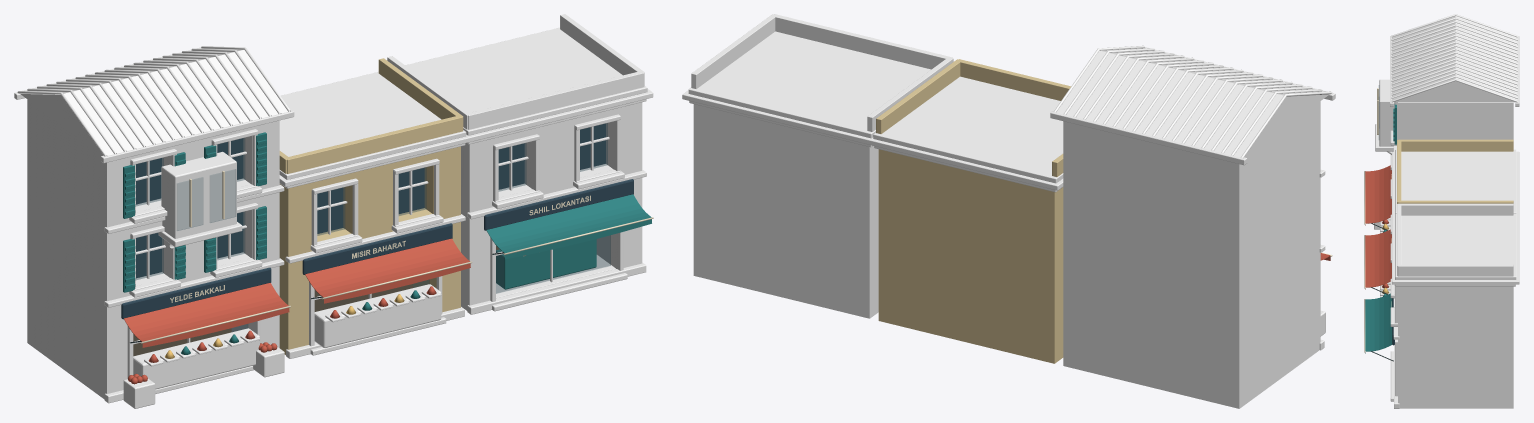
The model's file is DistrictBlock_1_1.glb.
3 views of the same model, side by side, from view 1: azimuth 30°, elevation 25°; view 2: azimuth 150°, elevation 25°; view 3: azimuth 270°, elevation 25° (orthographic). The views are drawn at different scales.
Parts seen in each view (by area): view 1: RK_DistrictBlock_1_1_LC_Coral, RK_DistrictBlock_1_1_LC_Lime, RK_DistrictBlock_1_1_LC_Wood, RK_DistrictBlock_1_1_LC_Tile, RK_DistrictBlock_1_1_LC_Ochre, RK_DistrictBlock_1_1_LC_Ink, RK_DistrictBlock_1_1_LC_Teal, RK_DistrictBlock_1_1_LC_Glass, RK_DistrictBlock_1_1_LC_Red, RK_DistrictBlock_1_1_LC_Canvas, RK_DistrictBlock_1_1_LC_Interior; view 2: RK_DistrictBlock_1_1_LC_Coral, RK_DistrictBlock_1_1_LC_Ochre, RK_DistrictBlock_1_1_LC_Lime, RK_DistrictBlock_1_1_LC_Tile, RK_DistrictBlock_1_1_LC_Wood; view 3: RK_DistrictBlock_1_1_LC_Coral, RK_DistrictBlock_1_1_LC_Lime, RK_DistrictBlock_1_1_LC_Tile, RK_DistrictBlock_1_1_LC_Red, RK_DistrictBlock_1_1_LC_Ochre, RK_DistrictBlock_1_1_LC_Teal, RK_DistrictBlock_1_1_LC_Wood, RK_DistrictBlock_1_1_LC_Canvas.
Part boxes in pixels (bbox=[...]): RK_DistrictBlock_1_1_LC_Coral: bbox=[27, 14, 644, 399]; RK_DistrictBlock_1_1_LC_Lime: bbox=[104, 27, 653, 403]; RK_DistrictBlock_1_1_LC_Wood: bbox=[14, 47, 615, 408]; RK_DistrictBlock_1_1_LC_Tile: bbox=[17, 46, 290, 156]; RK_DistrictBlock_1_1_LC_Ochre: bbox=[279, 58, 463, 354]; RK_DistrictBlock_1_1_LC_Ink: bbox=[121, 123, 633, 319]; RK_DistrictBlock_1_1_LC_Teal: bbox=[123, 132, 651, 354]; RK_DistrictBlock_1_1_LC_Glass: bbox=[133, 123, 610, 355]; RK_DistrictBlock_1_1_LC_Red: bbox=[124, 238, 470, 384]; RK_DistrictBlock_1_1_LC_Canvas: bbox=[141, 171, 653, 343]; RK_DistrictBlock_1_1_LC_Interior: bbox=[133, 245, 498, 355]; RK_DistrictBlock_1_1_LC_Coral: bbox=[691, 14, 1320, 408]; RK_DistrictBlock_1_1_LC_Ochre: bbox=[876, 59, 1070, 363]; RK_DistrictBlock_1_1_LC_Lime: bbox=[682, 31, 1325, 350]; RK_DistrictBlock_1_1_LC_Tile: bbox=[1053, 45, 1332, 158]; RK_DistrictBlock_1_1_LC_Wood: bbox=[1050, 47, 1335, 336]; RK_DistrictBlock_1_1_LC_Coral: bbox=[1397, 102, 1513, 408]; RK_DistrictBlock_1_1_LC_Lime: bbox=[1375, 102, 1519, 408]; RK_DistrictBlock_1_1_LC_Tile: bbox=[1391, 14, 1518, 102]; RK_DistrictBlock_1_1_LC_Red: bbox=[1365, 165, 1391, 289]; RK_DistrictBlock_1_1_LC_Ochre: bbox=[1397, 139, 1513, 203]; RK_DistrictBlock_1_1_LC_Teal: bbox=[1365, 104, 1396, 353]; RK_DistrictBlock_1_1_LC_Wood: bbox=[1374, 36, 1519, 229]; RK_DistrictBlock_1_1_LC_Canvas: bbox=[1364, 88, 1391, 352].
Size of the model in its own units: 19.17 by 9.33 by 6.44.
